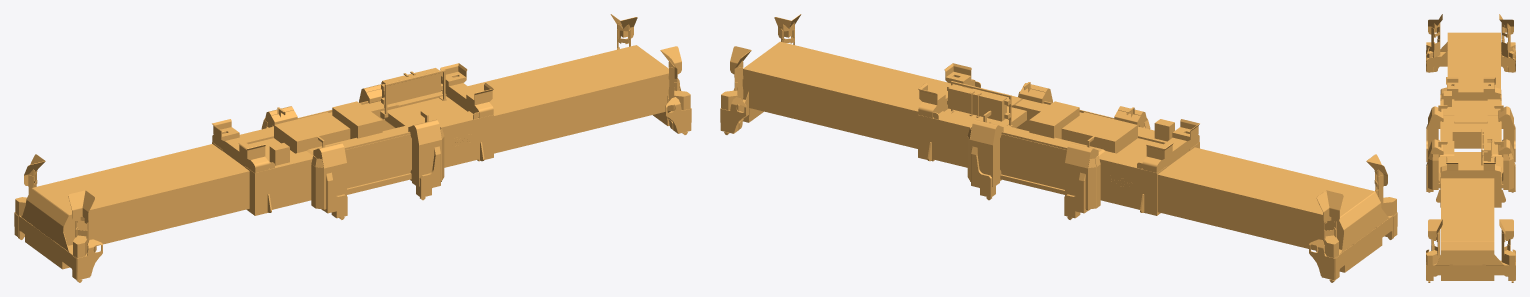
The model's file is Spreader 2.fbx.
3 views of the same model, side by side, from view 1: azimuth 30°, elevation 25°; view 2: azimuth 150°, elevation 25°; view 3: azimuth 270°, elevation 25° (orthographic). The views are drawn at different scales.
Visible parts, largest first — view 1: Spreader, Leg_Left, Leg_Right, Left_Arm_2, Right_Arm_1, Left_Arm_1, Right_Arm_2; view 2: Spreader, Leg_Left, Leg_Right, Left_Arm_1, Right_Arm_2, Left_Arm_2, Right_Arm_1; view 3: Spreader, Leg_Right, Leg_Left, Right_Arm_2, Right_Arm_1, Left_Arm_2, Left_Arm_1.
Boxes of the visible parts, box(x1,y1,x2,y2) form: Spreader: box(212, 63, 493, 219); Leg_Left: box(14, 138, 294, 282); Leg_Right: box(387, 17, 691, 153); Left_Arm_2: box(68, 190, 95, 257); Right_Arm_1: box(660, 46, 690, 110); Left_Arm_1: box(15, 154, 45, 215); Right_Arm_2: box(610, 14, 637, 49); Spreader: box(918, 63, 1199, 219); Leg_Left: box(1117, 138, 1397, 282); Leg_Right: box(720, 41, 1026, 148); Left_Arm_1: box(1316, 190, 1343, 257); Right_Arm_2: box(721, 46, 751, 110); Left_Arm_2: box(1366, 154, 1396, 216); Right_Arm_1: box(774, 14, 801, 44); Spreader: box(1426, 77, 1515, 207); Leg_Right: box(1426, 152, 1515, 282); Leg_Left: box(1426, 32, 1515, 121); Right_Arm_2: box(1499, 219, 1515, 265); Right_Arm_1: box(1426, 219, 1442, 265); Left_Arm_2: box(1426, 14, 1442, 57); Left_Arm_1: box(1499, 14, 1515, 57).
Bounding box in the file's own units: 137210 × 18858 × 24400.
